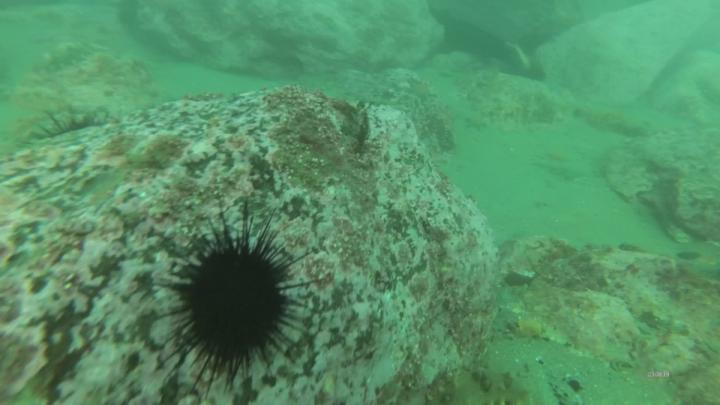echinus: (163, 217, 302, 388), (14, 104, 116, 152)
holothurian: (437, 364, 534, 405), (589, 107, 657, 139)
